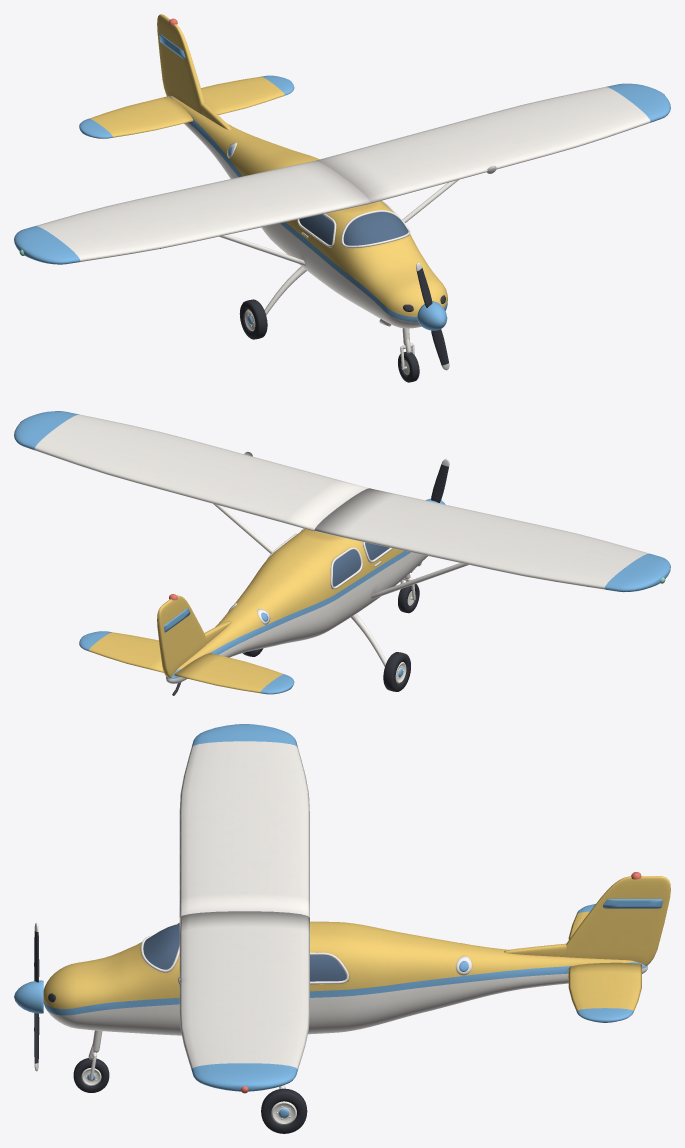
File: vintage_prop_plane.glb
3 views of the same model, one above another, from view 1: azimuth 30°, elevation 25°; view 2: azimuth 150°, elevation 25°; view 3: azimuth 270°, elevation 25° (orthographic). The views are drawn at different scales.
Visible parts, largest first — view 1: propeller-plane_body, propeller-plane_windows, propeller-plane_propeller, propeller-plane_wheel_main_r; view 2: propeller-plane_body, propeller-plane_windows, propeller-plane_wheel_main_r, propeller-plane_propeller, propeller-plane_wheel_nose; view 3: propeller-plane_body, propeller-plane_windows, propeller-plane_wheel_main_l, propeller-plane_propeller, propeller-plane_wheel_nose.
Part boxes in pixels (x1,y1,x2,y2): propeller-plane_body: [14, 14, 670, 369]; propeller-plane_windows: [299, 212, 408, 246]; propeller-plane_propeller: [416, 262, 449, 370]; propeller-plane_wheel_main_r: [239, 299, 267, 339]; propeller-plane_body: [14, 411, 670, 695]; propeller-plane_windows: [331, 542, 389, 588]; propeller-plane_wheel_main_r: [383, 652, 410, 691]; propeller-plane_propeller: [418, 458, 449, 566]; propeller-plane_wheel_nose: [398, 584, 419, 613]; propeller-plane_body: [43, 724, 670, 1091]; propeller-plane_windows: [143, 924, 348, 981]; propeller-plane_wheel_main_l: [261, 1088, 307, 1133]; propeller-plane_propeller: [14, 923, 43, 1071]; propeller-plane_wheel_nose: [73, 1058, 109, 1092].
Bounding box in the file's own units: 10.06 × 2.82 × 7.67.
17 materials, 1 textured.
